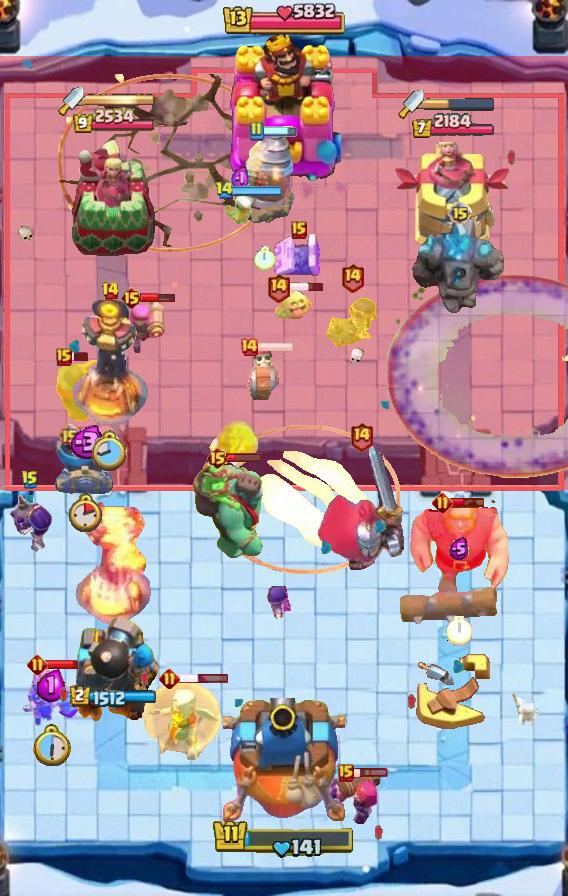balloon: (408, 500, 510, 598)
bar: (394, 142, 512, 256), (70, 138, 158, 256)
bat-evolution: (274, 284, 314, 322)
cannoneer-tower: (412, 219, 508, 317)
clock: (212, 818, 356, 860), (221, 0, 347, 40)
electro-dragon: (71, 299, 149, 427), (74, 499, 152, 627)
electro-spirit: (65, 425, 106, 459), (37, 670, 65, 702), (230, 165, 249, 193), (449, 537, 469, 561)
elixir: (31, 724, 71, 767), (92, 430, 128, 473), (68, 493, 102, 532), (446, 616, 472, 646), (254, 245, 276, 270)
emote: (177, 672, 229, 683), (230, 186, 281, 196), (287, 281, 324, 293), (257, 341, 294, 353), (351, 767, 388, 779), (450, 496, 486, 508), (225, 453, 262, 464), (261, 126, 297, 137), (140, 292, 176, 303), (45, 658, 79, 669), (70, 350, 90, 361)
firecracker: (44, 360, 106, 426)
goblin: (266, 586, 295, 622)
goblin-ball: (324, 295, 380, 351), (8, 487, 52, 553)
goblin-brawler: (273, 229, 325, 279)
guard: (58, 75, 282, 254)
heal-spirit: (511, 692, 541, 728), (225, 195, 255, 227)
ice-wizard: (211, 426, 400, 575)
king-tower: (227, 29, 341, 181), (223, 698, 345, 826)
king-tower-bar: (84, 93, 156, 107), (424, 97, 496, 111)
knight: (243, 345, 287, 403)
lava-hound: (191, 458, 275, 564)
magic-archer: (235, 132, 295, 224)
mega-minion: (322, 769, 390, 825)
minion: (399, 584, 501, 624)
musketeer: (55, 430, 115, 494)
poison: (140, 679, 225, 771)
rocket: (388, 274, 568, 478)
selected: (412, 112, 497, 140), (72, 109, 156, 136), (70, 685, 158, 708)
tesla-evolution: (21, 665, 81, 729)
text: (339, 263, 364, 294), (266, 273, 291, 304), (350, 420, 375, 451), (448, 201, 472, 225), (120, 286, 143, 310), (58, 422, 81, 446), (207, 446, 230, 470), (431, 491, 453, 513), (27, 653, 48, 674), (160, 667, 181, 688), (100, 281, 120, 301), (239, 337, 259, 357), (214, 181, 233, 200), (21, 470, 39, 490), (248, 121, 264, 141), (291, 221, 307, 239), (56, 348, 72, 366), (338, 764, 354, 782)
tombstone: (122, 296, 166, 356)
tower-bar: (64, 615, 164, 731)
valkyrie: (209, 416, 261, 472)
wall-breaker-evolution: (315, 442, 407, 576)
